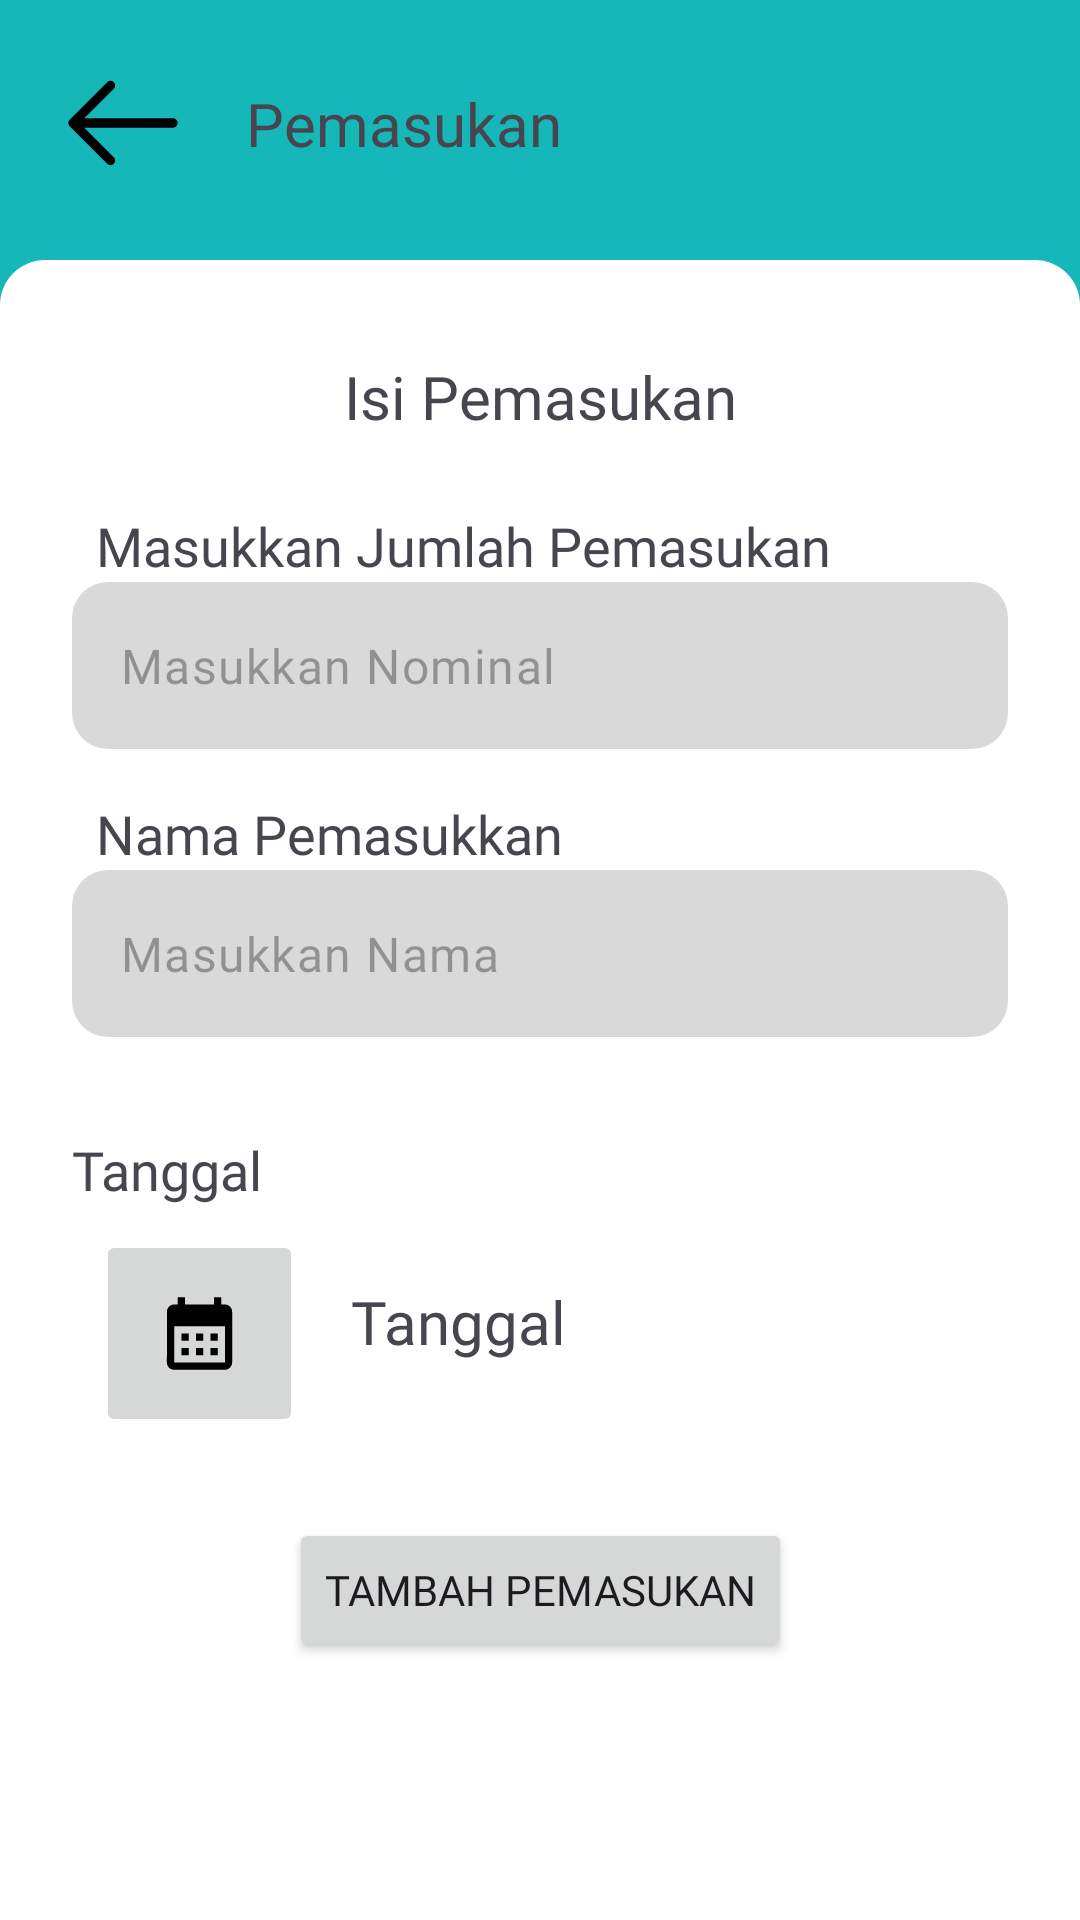

Screen size 1080w x 1920h. Icon name, then its center in pixels as point (x, y):
back: point (123, 123)
calendar: point (199, 1333)
